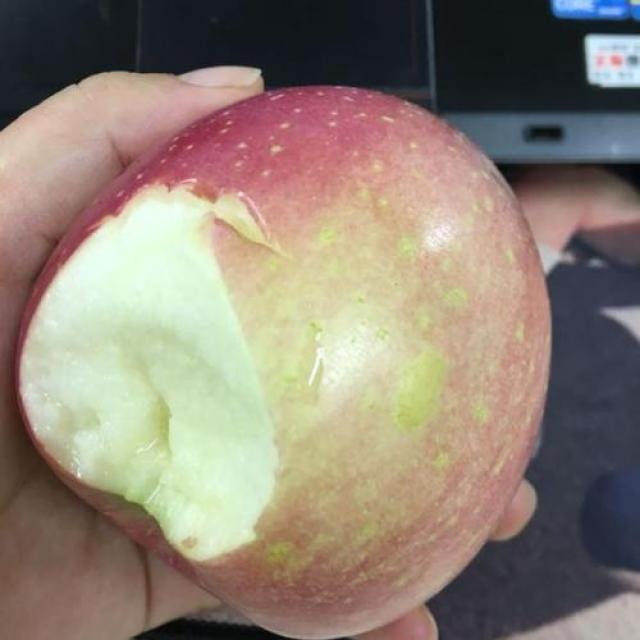Rotten: (9, 71, 558, 640)
